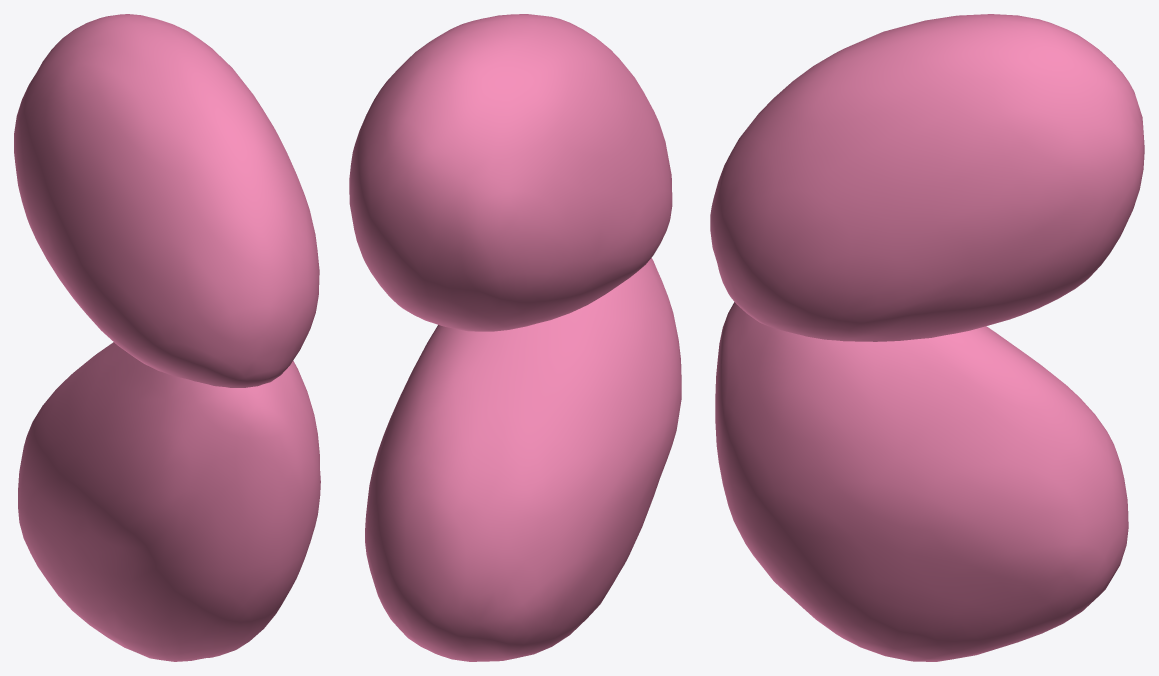
The model's file is paps_aile_anime.glb.
The picture shows the model from 3 angles, left to right: view 1: azimuth 30°, elevation 25°; view 2: azimuth 150°, elevation 25°; view 3: azimuth 270°, elevation 25°; orthographic projection. The views are drawn at different scales.
Visible parts, largest first — view 1: Icosphere.002; view 2: Icosphere.002; view 3: Icosphere.002.
Boxes of the visible parts, x1,y1,x2,y2 form: Icosphere.002: (14,14,320,661); Icosphere.002: (349,14,681,661); Icosphere.002: (710,14,1144,661).
Size of the model in its own units: 1.31 by 3.4 by 2.14.
